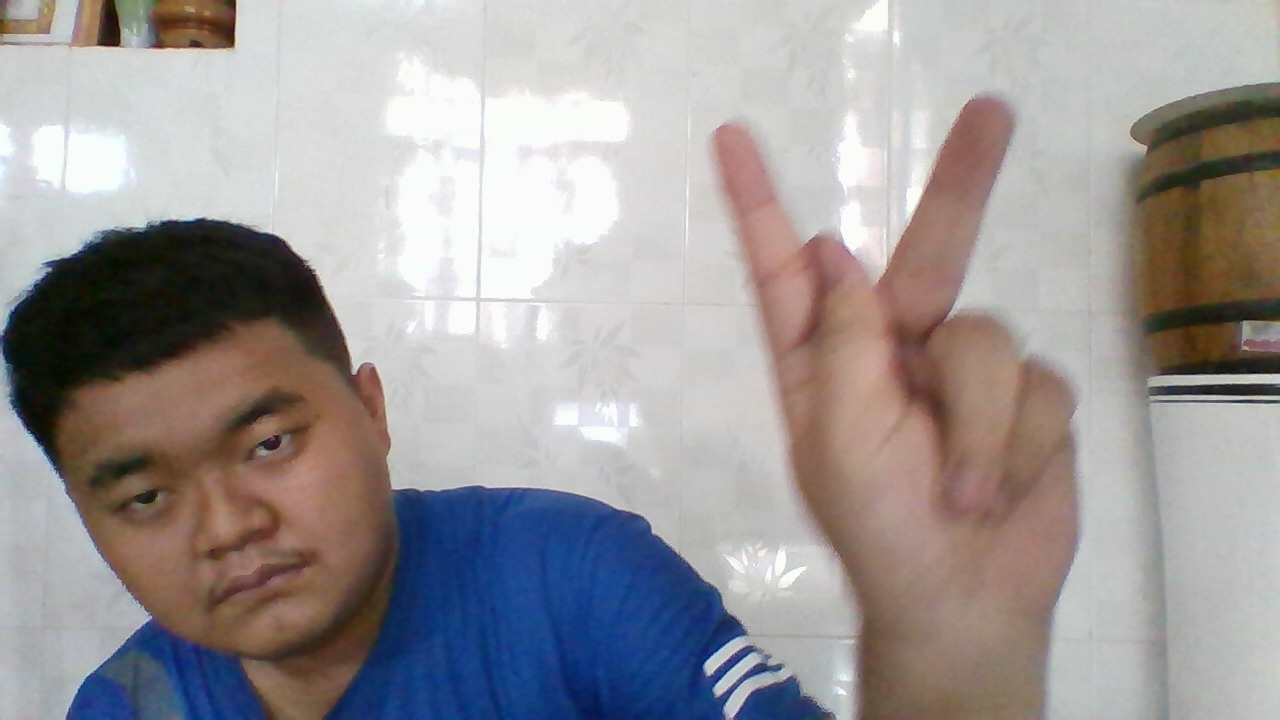K: (723, 99, 1064, 638)
